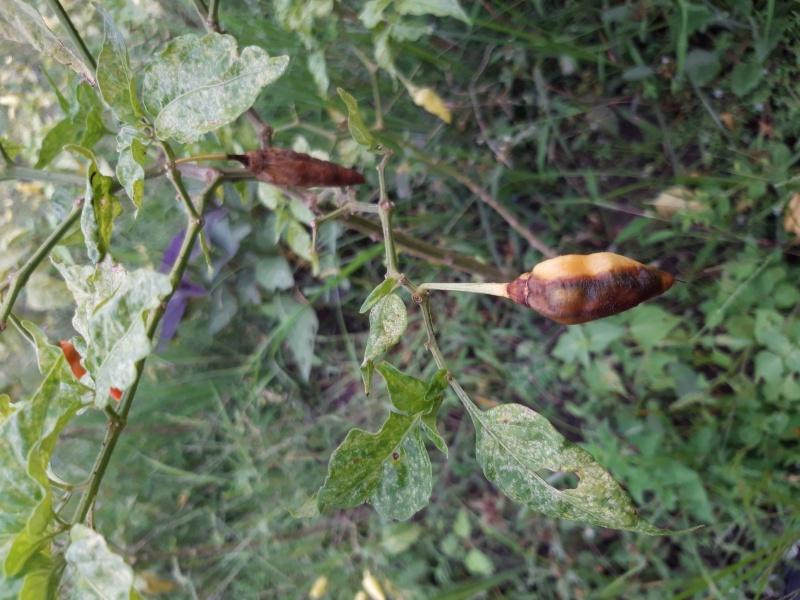cabai_normal: (413, 89, 452, 126)
lalat_buah: (529, 251, 673, 324), (248, 145, 367, 190)
